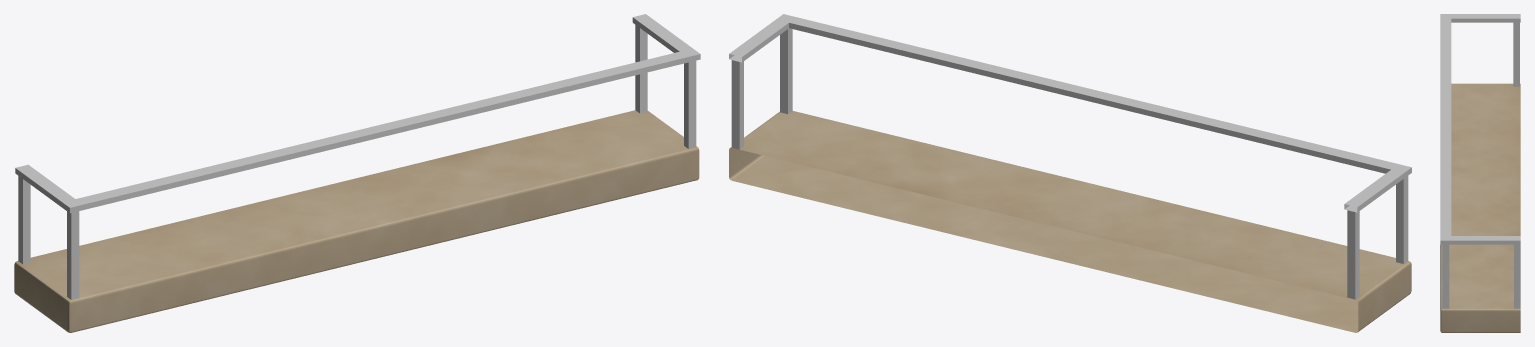
Rendered from BalconyA01.fbx.
3 renders of one model, left to right at view 1: azimuth 30°, elevation 25°; view 2: azimuth 150°, elevation 25°; view 3: azimuth 270°, elevation 25°, orthographic. The views are drawn at different scales.
Parts seen in each view (by area): view 1: BalconyA01, polySurface34; view 2: BalconyA01, polySurface34; view 3: BalconyA01, polySurface34.
Part boxes in pixels (x1,y1,x2,y2): BalconyA01: [14, 110, 699, 332]; polySurface34: [15, 14, 700, 299]; BalconyA01: [729, 111, 1411, 332]; polySurface34: [729, 14, 1411, 299]; BalconyA01: [1440, 83, 1520, 332]; polySurface34: [1440, 14, 1520, 308].
Size of the model in its own units: 6.1 by 1.17 by 0.9144.
